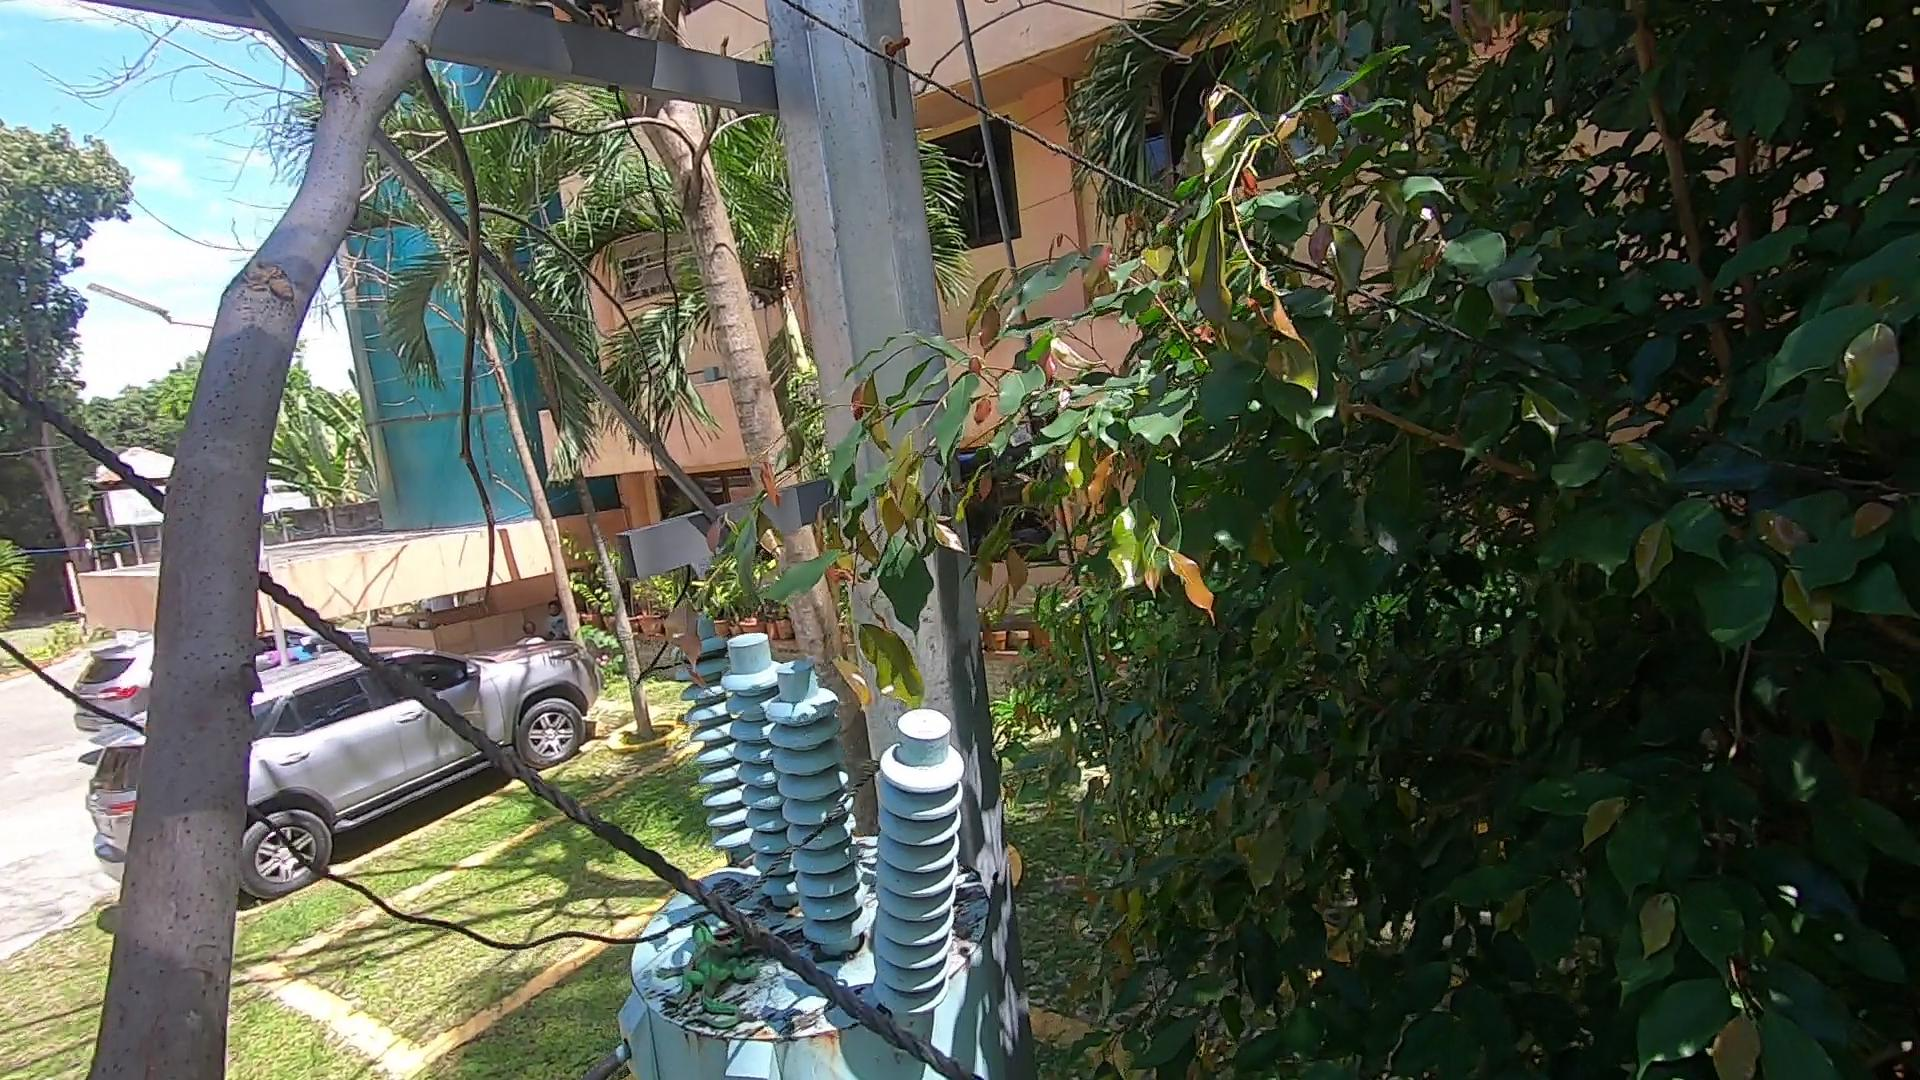branch with leaves: (702, 413, 978, 727)
leaf: (709, 934, 822, 949), (717, 855, 766, 872), (953, 882, 982, 901)
tree branch: (160, 7, 537, 1080)
